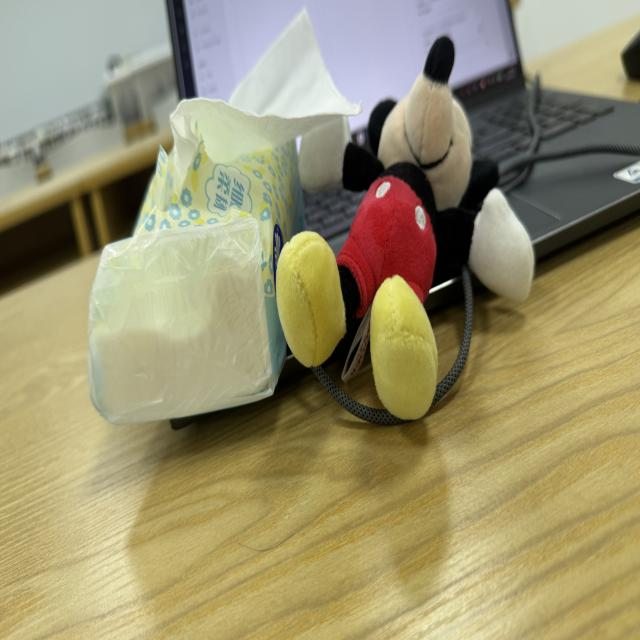mickey: (277, 38, 534, 418)
tissue: (89, 12, 361, 423), (89, 141, 303, 423), (89, 217, 278, 423)
